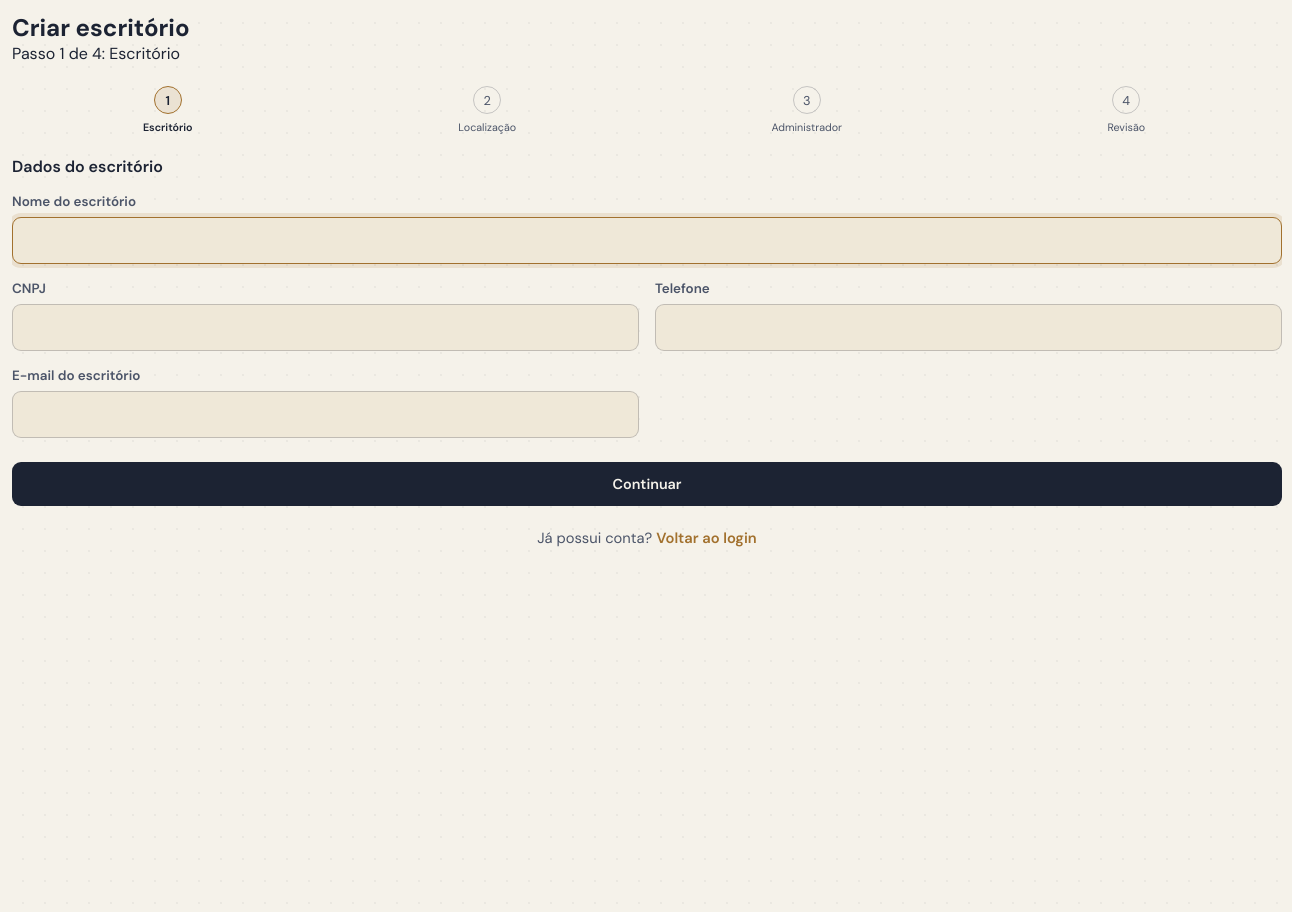
it: cadastro do escritório preenchido pelo CNPJ › preenche nome, telefone, endereço, cidade, UF e CEP com os dados da Receita
The image size is (1292, 912).
Type "11444777000161" into the field below "CNPJ" at x=326, y=328, box [12, 304, 639, 351]
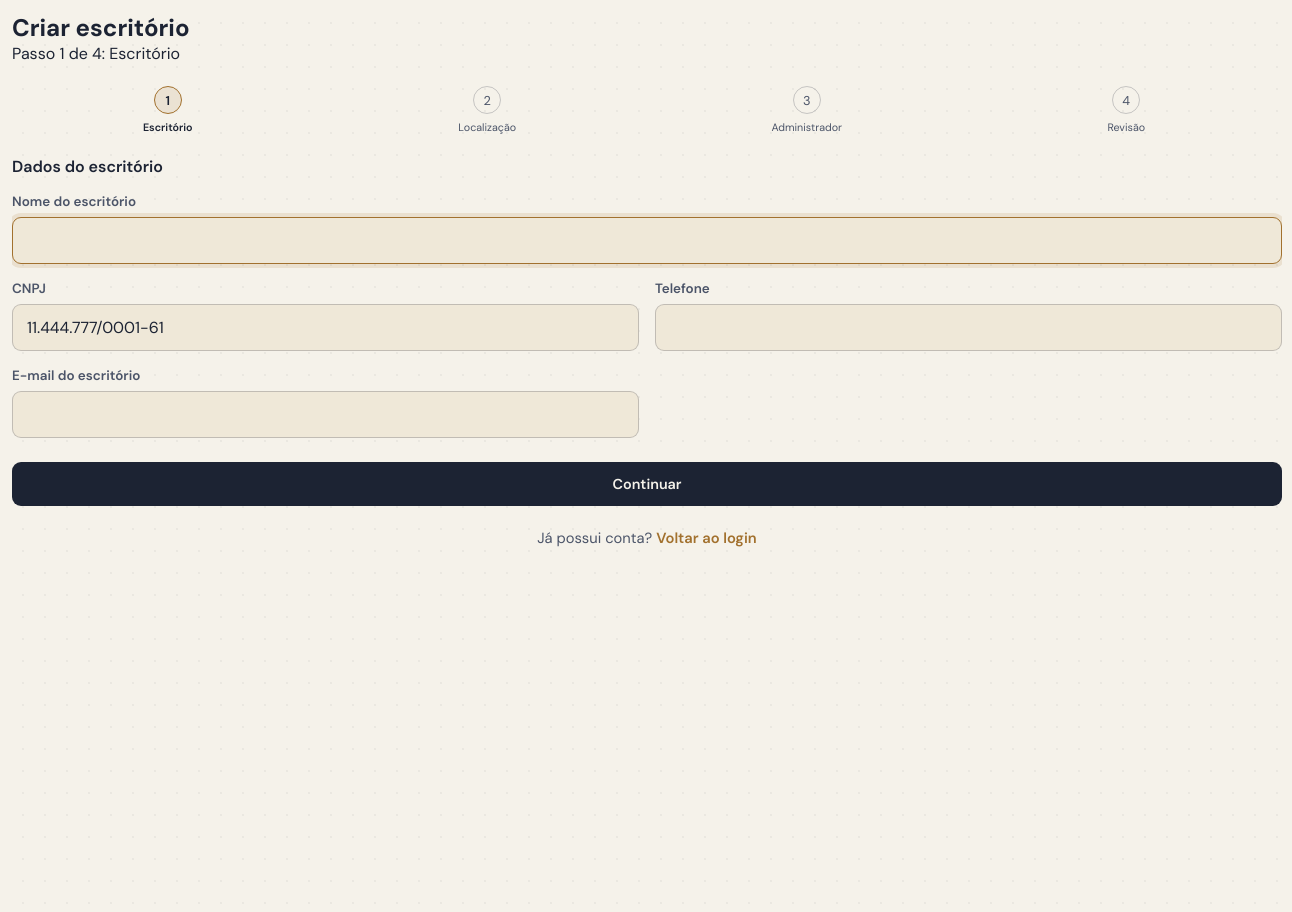
Leave the field below "CNPJ", box [12, 304, 639, 351]
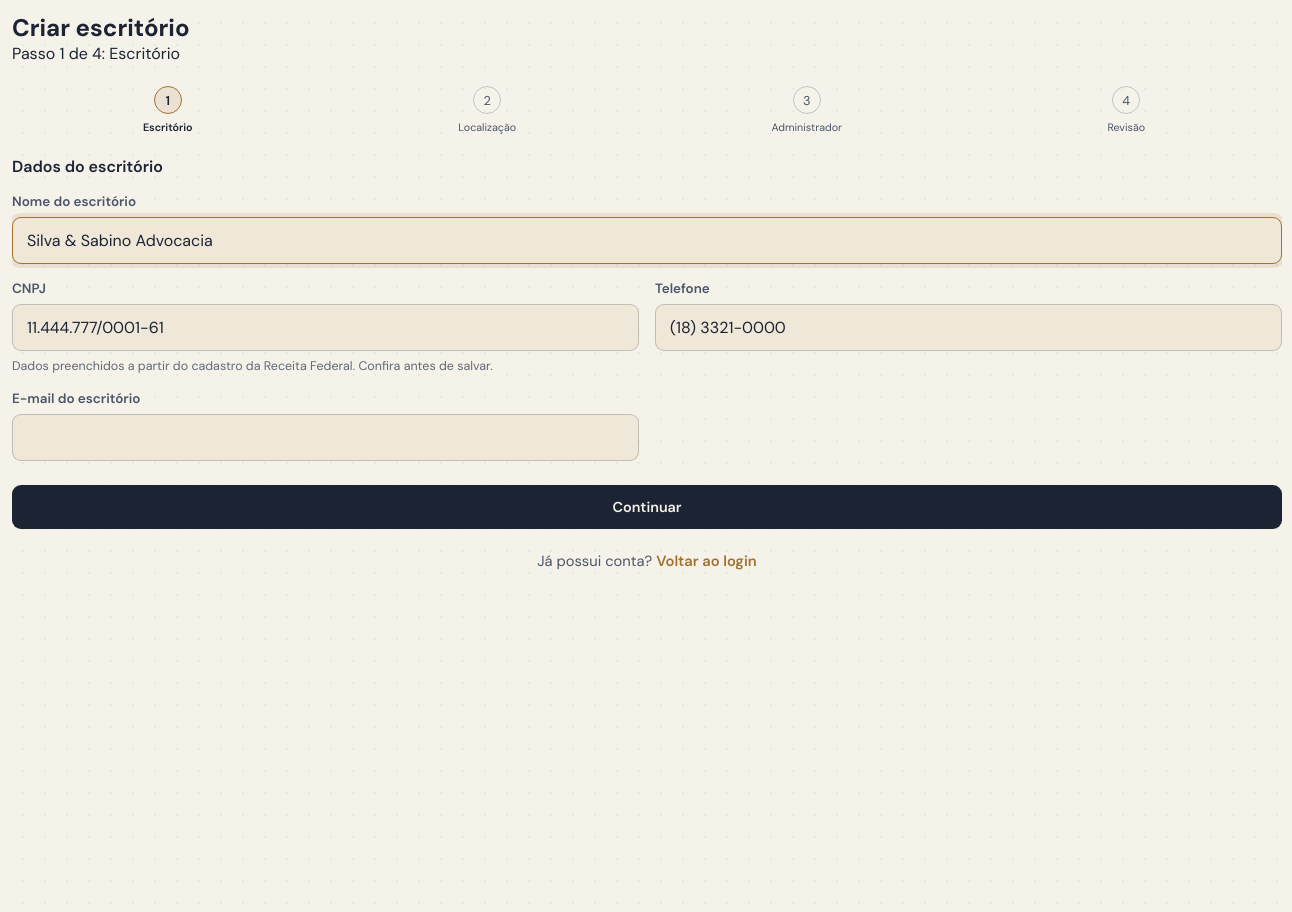
Expected: the field below "Nome do escritório" holds "Silva & Sabino Advocacia", [12, 217, 1282, 264]
Expected: the field below "Telefone" holds "(18) 3321-0000", [655, 304, 1282, 351]
Expected: the message shows "Receita Federal", [12, 358, 493, 374]
